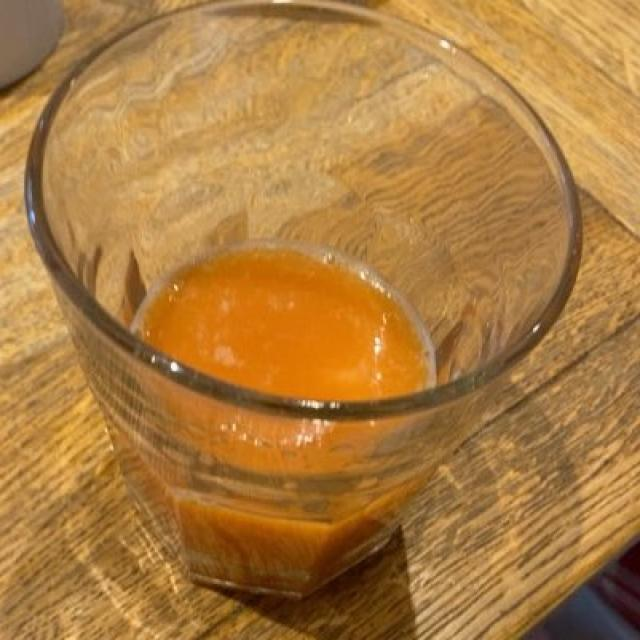juice-orange: (126, 270, 439, 604)
